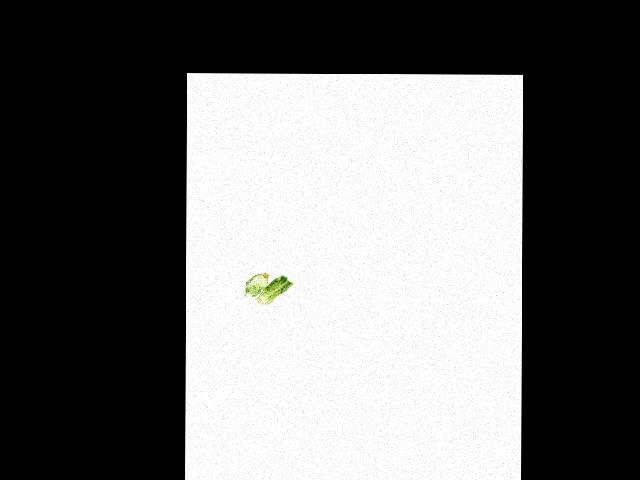lettuce: (243, 269, 270, 298)
